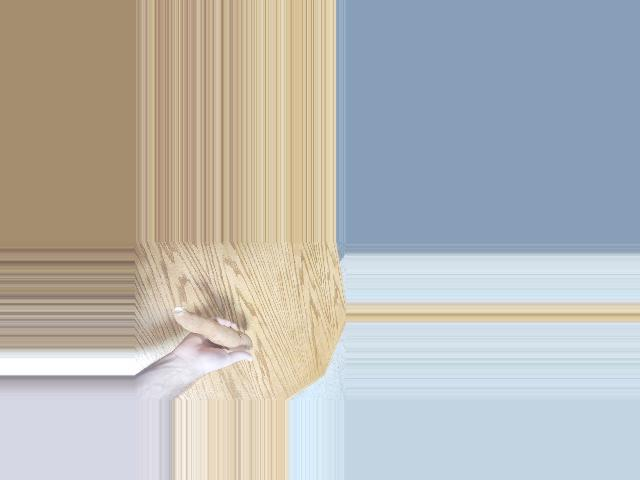sweet_potato: (171, 307, 256, 348)
